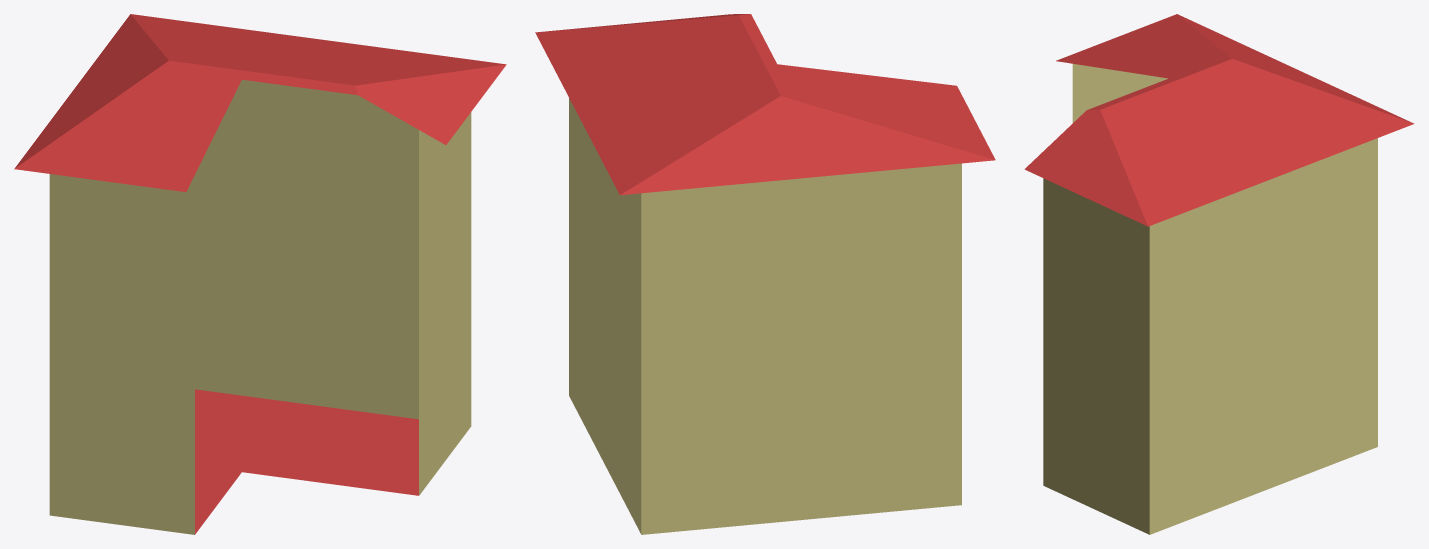
3 views of the same model, side by side, from view 1: azimuth 30°, elevation 25°; view 2: azimuth 150°, elevation 25°; view 3: azimuth 270°, elevation 25° (orthographic). The views are drawn at different scales.
Parts seen in each view (by area): view 1: group_5, group_3, group_6, group_4; view 2: group_5, group_3; view 3: group_5, group_3, group_4.
Part boxes in pixels (x1,y1,x2,y2): group_5: [49, 79, 471, 534]; group_3: [14, 14, 506, 191]; group_6: [195, 389, 418, 534]; group_4: [17, 64, 506, 191]; group_5: [569, 98, 961, 534]; group_3: [535, 14, 995, 195]; group_5: [1043, 64, 1377, 534]; group_3: [1024, 14, 1414, 226]; group_4: [1026, 14, 1176, 224].
Bounding box in the file's own units: 9.72 × 7.54 × 7.7.
